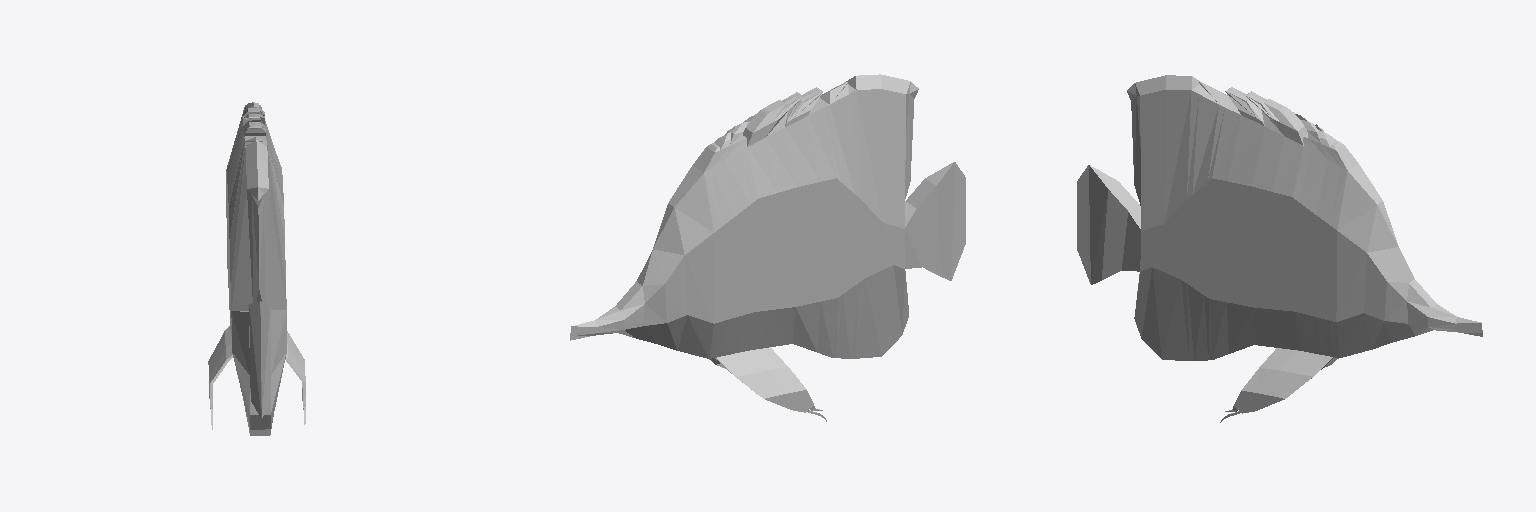
The model's file is Fish.obj.
3 views of the same model, side by side, from view 1: azimuth 30°, elevation 25°; view 2: azimuth 150°, elevation 25°; view 3: azimuth 270°, elevation 25° (orthographic).
Parts seen in each view (by area): view 1: Cube.001; view 2: Cube.001; view 3: Cube.001.
Part boxes in pixels (x1,y1,x2,y2): Cube.001: (208,102,305,435); Cube.001: (570,74,965,421); Cube.001: (1077,75,1482,422).
Size of the model in its own units: 0.6437 by 1.01 by 1.17.